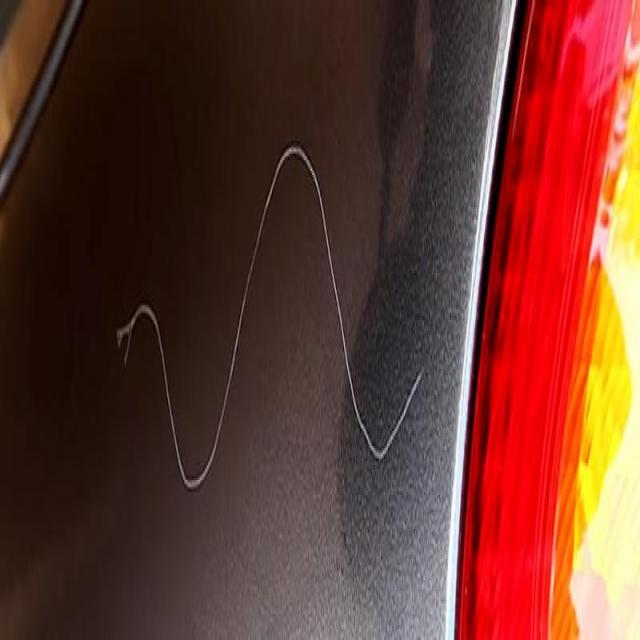scratch: (104, 113, 438, 514)
